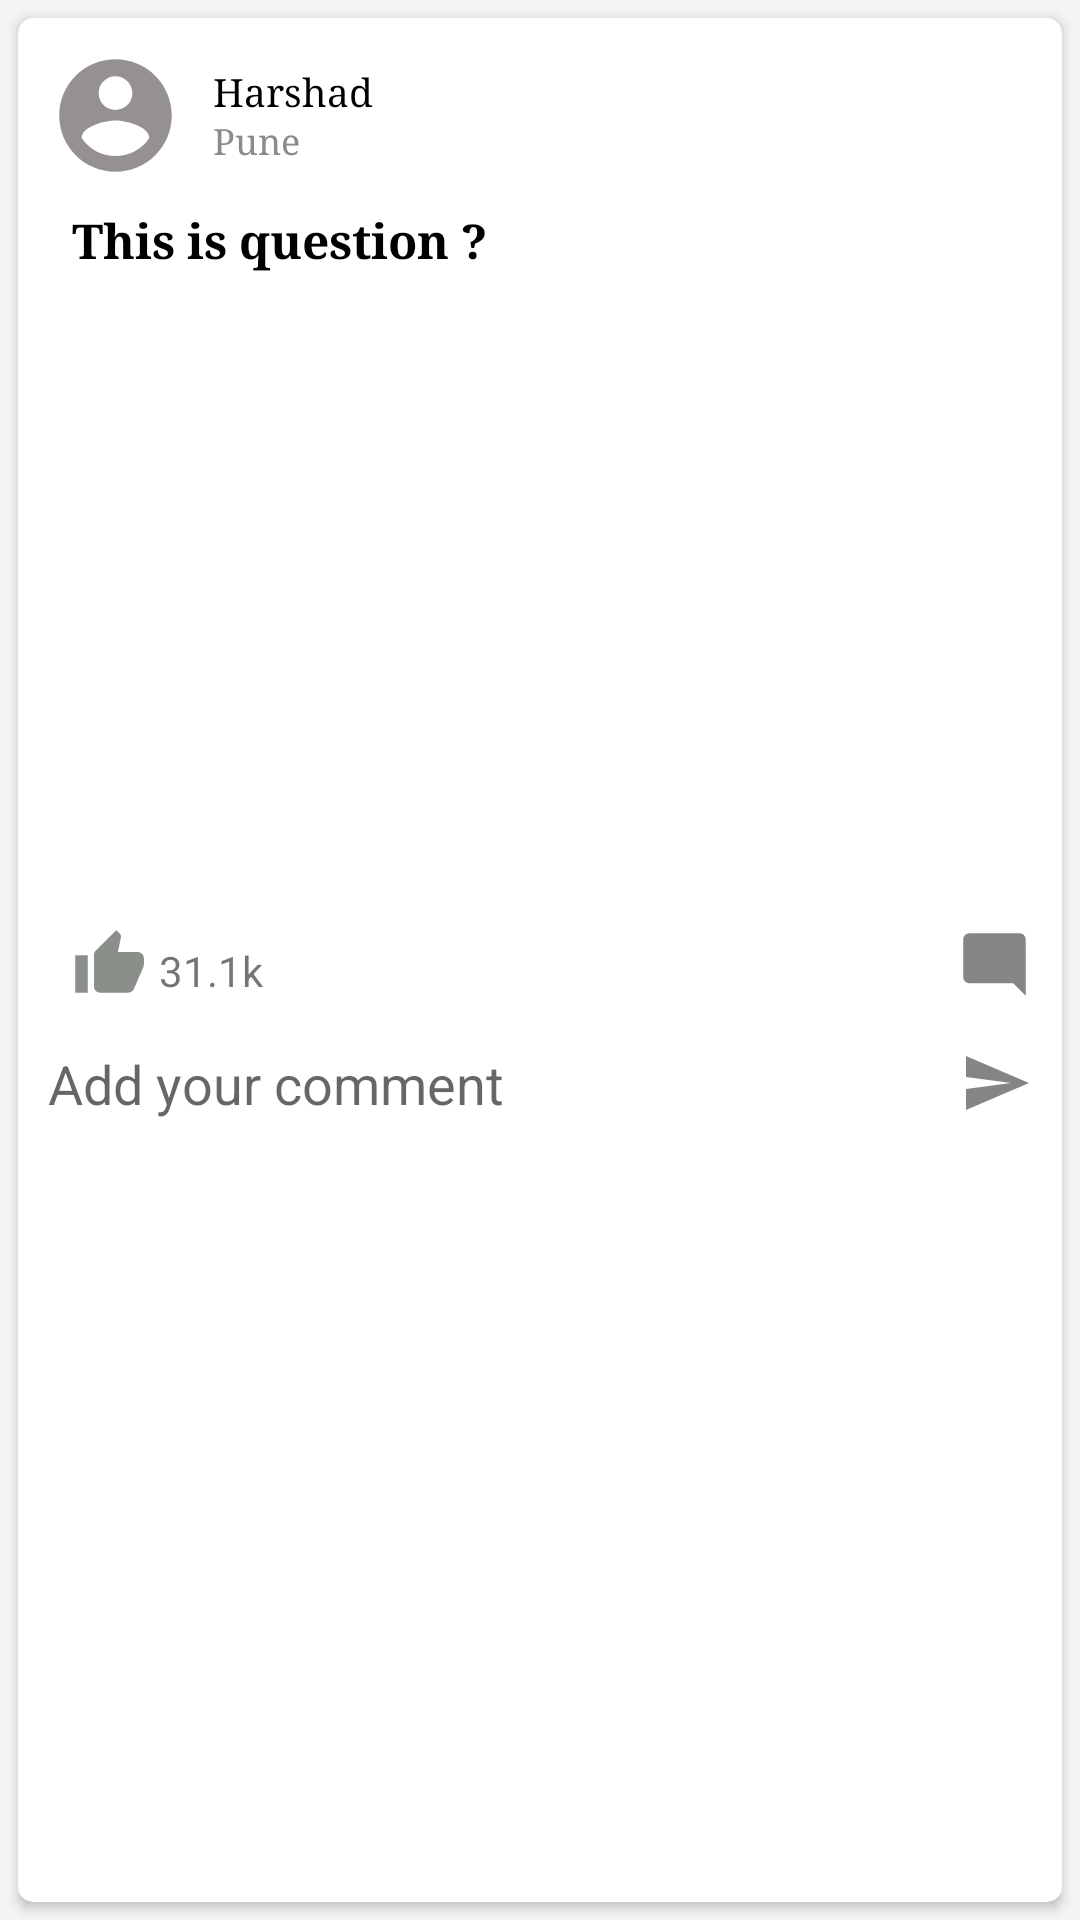

Where to tap for icons on this 1080w x 1920h app screen, as point (x, y):
forun user: point (115, 115)
send: point (997, 1083)
upvote: point (109, 961)
